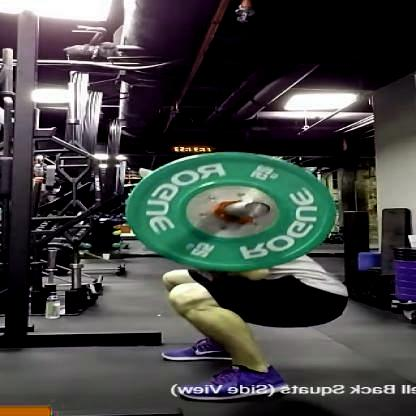Barbell: (229, 199, 271, 219)
